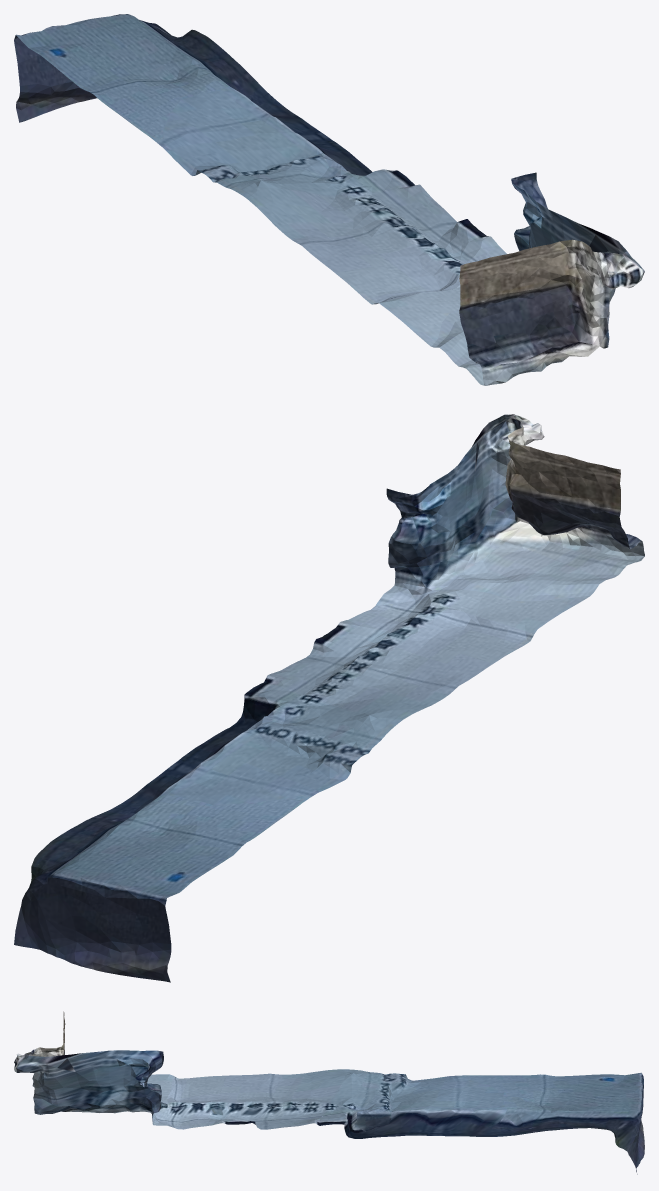
File: tile_5_26_25_tex.obj
3 views of the same model, one above another, from view 1: azimuth 30°, elevation 25°; view 2: azimuth 150°, elevation 25°; view 3: azimuth 270°, elevation 25° (orthographic). The views are drawn at different scales.
Parts seen in each view (by area): view 1: obj_0; view 2: obj_0; view 3: obj_0.
Boxes of the visible parts, box(x1,y1,x2,y2) form: obj_0: box(14, 14, 644, 385); obj_0: box(14, 414, 644, 982); obj_0: box(14, 1011, 644, 1174).
Size of the model in its own units: 5.01 by 5.64 by 27.56.
1 material, 1 textured.
